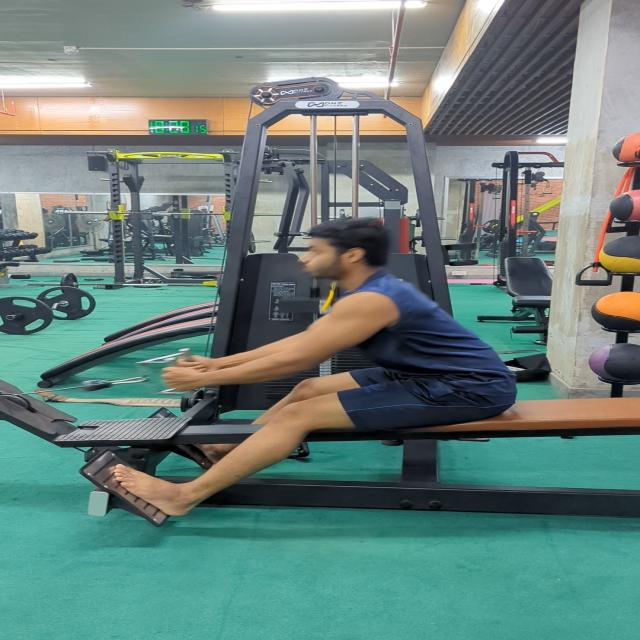Normal_RowingMachineExercise: (106, 217, 522, 518)
